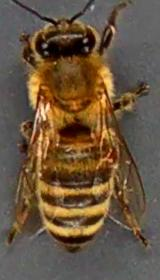varroa_mite: (96, 144, 116, 164)
